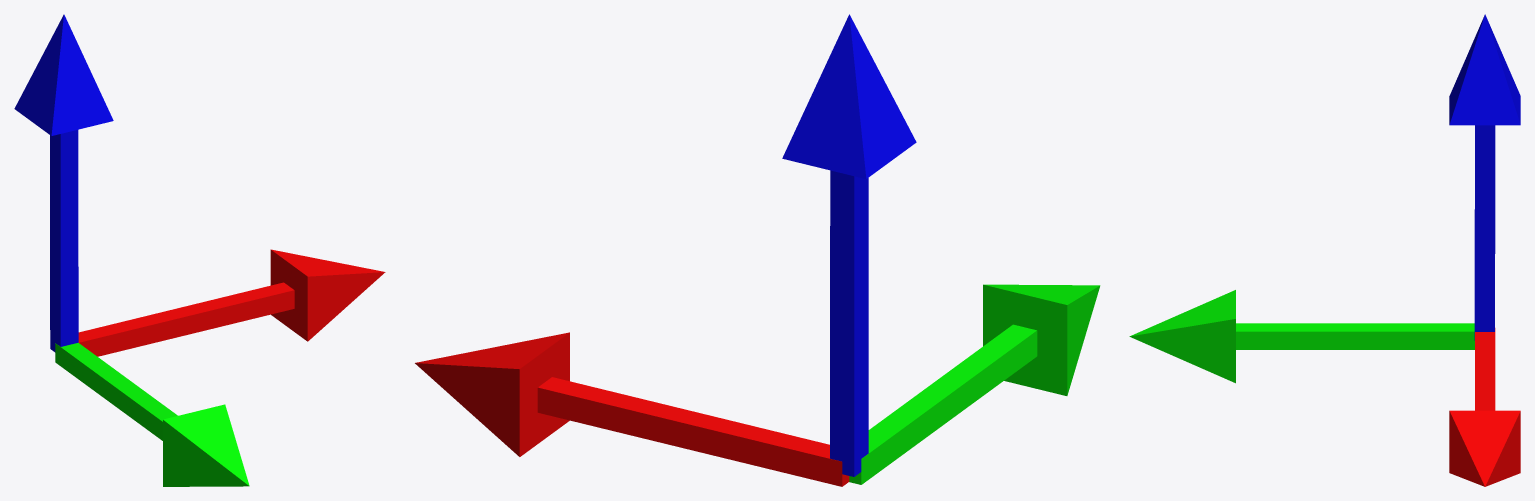
File: axis.dae
3 views of the same model, side by side, from view 1: azimuth 30°, elevation 25°; view 2: azimuth 150°, elevation 25°; view 3: azimuth 270°, elevation 25° (orthographic). The views are drawn at different scales.
Visible parts, largest first — view 1: Cube_001; view 2: Cube_001; view 3: Cube_001.
Part boxes in pixels (x1,y1,x2,y2): Cube_001: [14, 14, 385, 486]; Cube_001: [415, 14, 1100, 486]; Cube_001: [1129, 14, 1520, 486].
Bounding box in the file's own units: 1.1 × 1.1 × 1.1.
